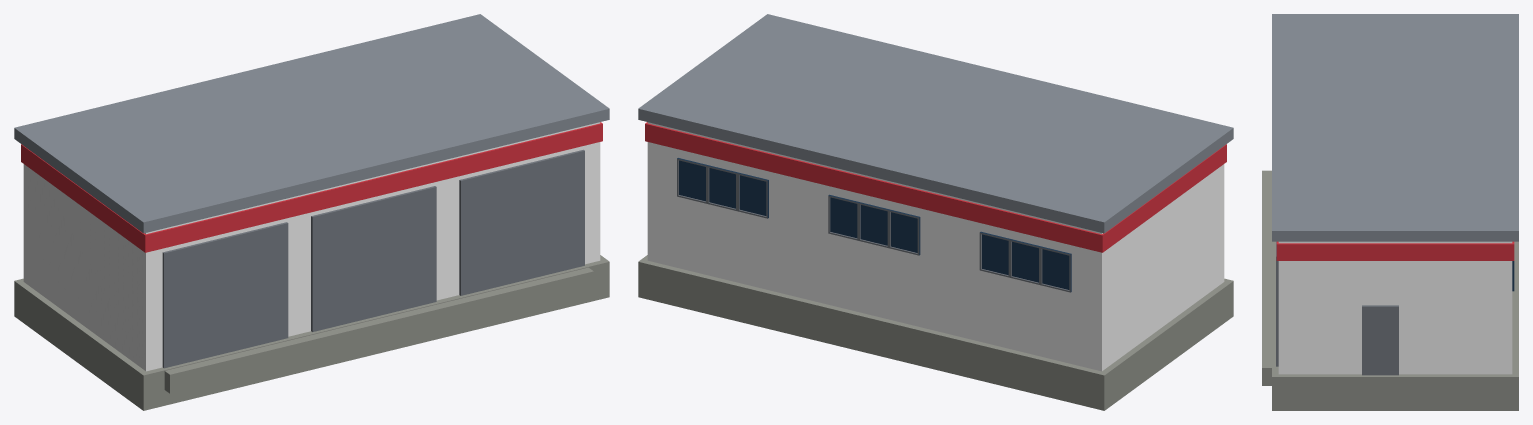
File: mashup-garage-mid-prebuilt_close.fbx
3 renders of one model, left to right at view 1: azimuth 30°, elevation 25°; view 2: azimuth 150°, elevation 25°; view 3: azimuth 270°, elevation 25°, orthographic. The views are drawn at different scales.
Parts seen in each view (by area): view 1: a1052.Garage.001; view 2: a1052.Garage.001; view 3: a1052.Garage.001.
Part boxes in pixels (bbox=[...]): a1052.Garage.001: bbox=[14, 14, 609, 410]; a1052.Garage.001: bbox=[638, 14, 1233, 410]; a1052.Garage.001: bbox=[1262, 14, 1518, 410].
Size of the model in its own units: 15.4 by 5.95 by 7.7.
